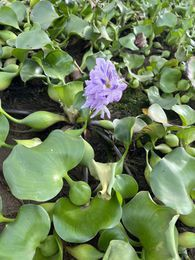water_hyacinth: (1, 0, 194, 259)
